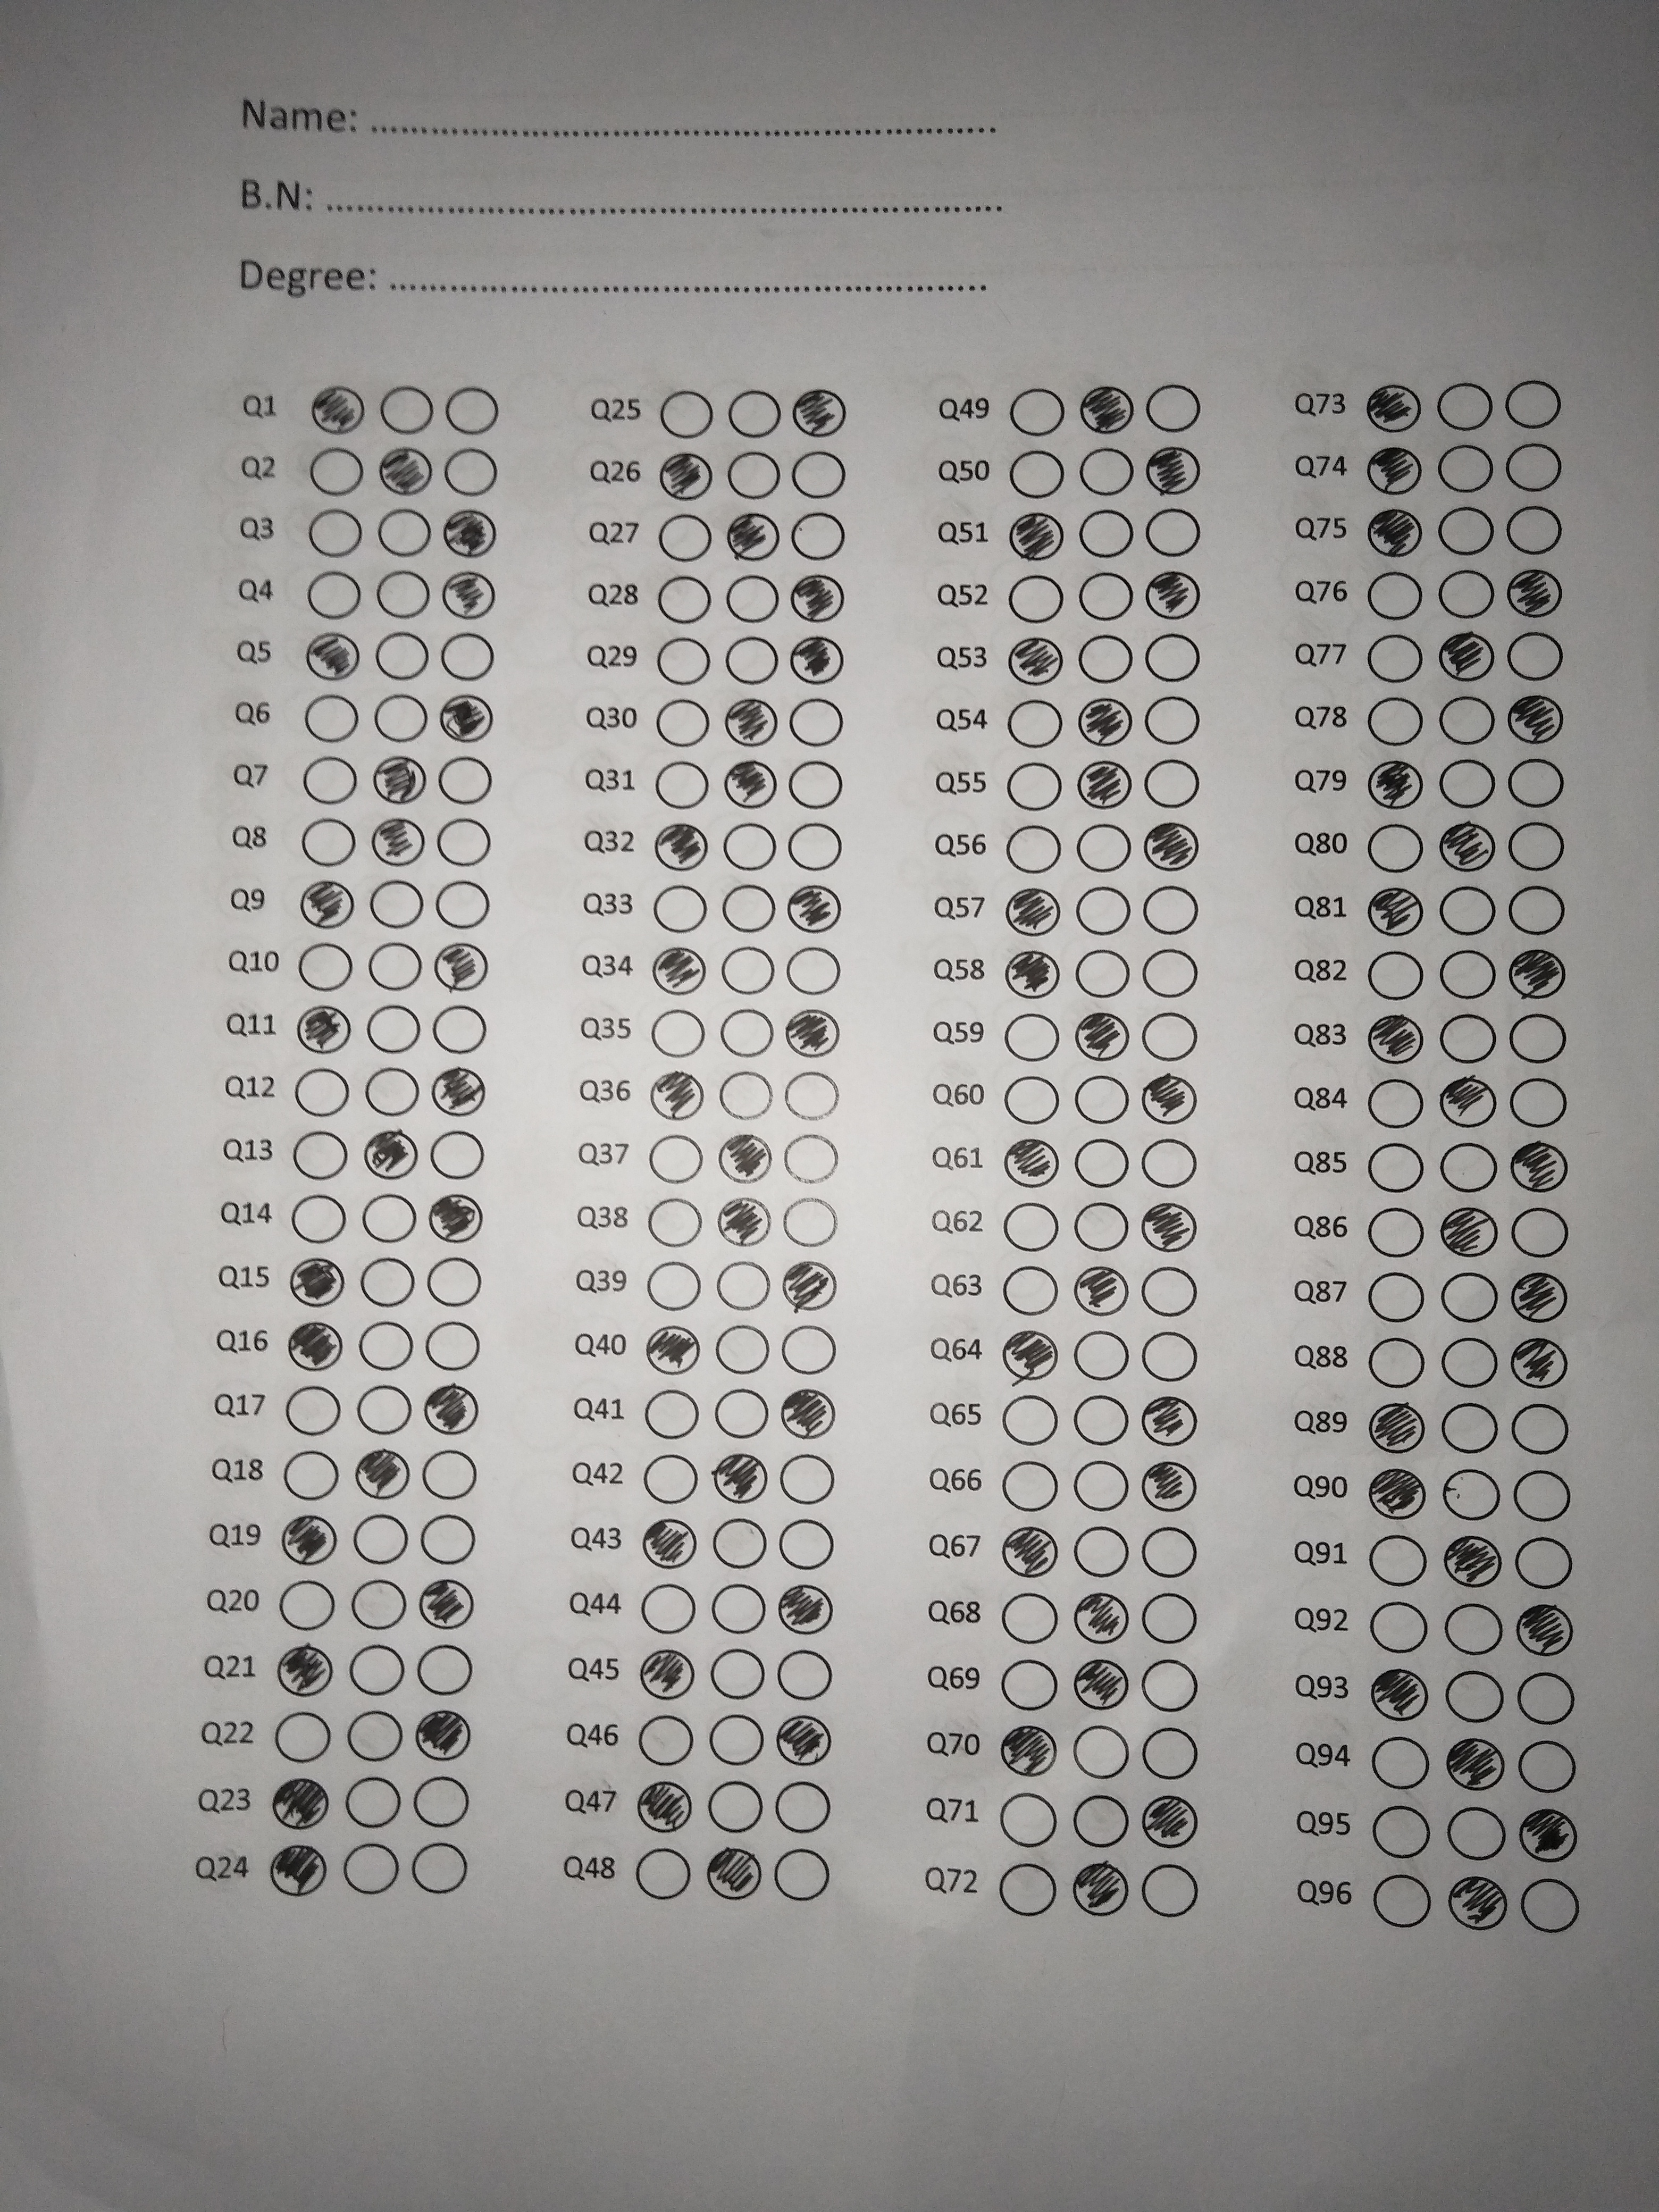not-c: (1363, 1730, 1432, 1792), (267, 1707, 335, 1766), (995, 1789, 1058, 1851), (1370, 1867, 1432, 1930), (1516, 1733, 1579, 1796), (408, 1838, 472, 1898), (1138, 1655, 1202, 1716), (1518, 1874, 1582, 1935), (995, 1588, 1061, 1648), (1364, 1801, 1431, 1860), (1441, 1667, 1507, 1726), (990, 1860, 1058, 1918), (1006, 376, 1066, 439), (1356, 951, 1429, 1003), (995, 1655, 1060, 1714), (1511, 1669, 1577, 1726), (1068, 1134, 1133, 1191), (1438, 1467, 1502, 1524), (772, 1517, 838, 1573), (1140, 1522, 1199, 1583), (1070, 1723, 1131, 1782), (439, 381, 502, 439), (408, 1773, 471, 1831), (1000, 1261, 1063, 1318), (1136, 1724, 1199, 1782), (1443, 1804, 1506, 1862), (1511, 1467, 1574, 1524), (1002, 446, 1066, 502), (627, 1846, 694, 1900), (1140, 631, 1206, 685), (418, 1444, 477, 1503), (706, 1710, 765, 1770), (343, 1709, 404, 1766), (779, 1451, 840, 1508), (709, 1581, 770, 1639), (1140, 1590, 1201, 1648), (638, 1385, 701, 1440), (1002, 568, 1065, 624), (1507, 1075, 1570, 1130), (1499, 378, 1563, 432), (1506, 1014, 1574, 1064), (343, 1839, 401, 1898), (720, 817, 779, 874), (772, 1846, 831, 1904), (788, 697, 849, 752), (1000, 1458, 1061, 1514), (1070, 1792, 1131, 1848), (774, 1782, 836, 1836), (1000, 1198, 1063, 1252), (1364, 1270, 1427, 1324), (429, 878, 493, 930), (354, 1258, 418, 1310), (1072, 570, 1136, 622), (352, 1512, 410, 1569), (714, 1318, 772, 1376), (713, 1385, 770, 1442), (1140, 1134, 1197, 1191), (355, 1318, 415, 1374), (655, 385, 714, 441), (725, 385, 784, 441), (786, 817, 845, 873), (709, 1517, 769, 1573), (1366, 1332, 1425, 1388), (291, 1064, 352, 1118), (716, 1005, 777, 1059), (779, 1195, 840, 1249), (645, 1259, 706, 1313), (638, 1581, 699, 1635), (1072, 1200, 1133, 1254), (1072, 1460, 1133, 1514), (1439, 1400, 1500, 1454), (1438, 1334, 1499, 1388), (1506, 820, 1567, 874), (1504, 505, 1565, 559), (716, 1069, 779, 1122), (1000, 1010, 1063, 1062), (1000, 1073, 1063, 1125), (1436, 693, 1499, 745), (1361, 632, 1424, 685), (1502, 631, 1565, 683), (282, 1379, 340, 1435), (354, 1381, 411, 1437), (342, 1773, 399, 1829), (725, 631, 782, 686), (708, 1646, 765, 1702), (636, 1714, 694, 1770), (1072, 1325, 1129, 1381), (1141, 1860, 1199, 1916), (1514, 1534, 1572, 1590), (653, 575, 713, 629), (1143, 505, 1202, 559), (1006, 697, 1065, 751), (1072, 1524, 1131, 1578), (1364, 820, 1424, 874), (279, 1447, 340, 1500), (345, 1644, 406, 1696), (1143, 381, 1204, 434), (1434, 381, 1495, 434), (1073, 948, 1134, 1000), (1138, 1012, 1199, 1064), (1441, 1602, 1502, 1655), (1366, 1534, 1427, 1587), (1507, 1404, 1568, 1456), (1364, 695, 1425, 747), (289, 1127, 352, 1177), (784, 761, 847, 812), (1363, 1078, 1425, 1129), (1436, 1014, 1499, 1064), (1506, 758, 1568, 808), (1366, 570, 1429, 620), (1504, 442, 1567, 493), (653, 695, 709, 751), (784, 1069, 840, 1125), (708, 1780, 763, 1836), (307, 446, 364, 500), (366, 878, 423, 932), (1077, 507, 1134, 561), (1140, 881, 1197, 935), (1441, 1270, 1499, 1324), (1368, 1207, 1425, 1261), (436, 815, 495, 867), (429, 1129, 488, 1181), (723, 449, 782, 502), (775, 1648, 835, 1700), (1138, 1266, 1197, 1318), (1000, 1395, 1060, 1447), (1370, 1601, 1429, 1653), (1436, 503, 1495, 556), (647, 883, 708, 934), (645, 1008, 706, 1059), (1004, 763, 1065, 813), (1140, 758, 1201, 808), (1438, 1144, 1499, 1195), (1436, 887, 1497, 937), (1506, 885, 1567, 935), (1070, 1076, 1133, 1125), (303, 754, 359, 808), (425, 1318, 481, 1372), (420, 1514, 474, 1569), (791, 509, 847, 563), (725, 571, 781, 625), (653, 758, 709, 812), (781, 1322, 836, 1376), (1075, 883, 1131, 937), (1141, 1329, 1197, 1383), (429, 1005, 486, 1057), (291, 1193, 349, 1245), (427, 1258, 484, 1310), (713, 1259, 770, 1312), (1077, 446, 1134, 498), (1075, 632, 1133, 685), (1143, 695, 1201, 747), (1073, 822, 1131, 874), (1511, 1205, 1568, 1258), (1436, 949, 1495, 1000), (1438, 759, 1497, 810), (441, 446, 497, 498), (416, 1642, 472, 1695), (647, 1195, 702, 1247), (303, 693, 361, 744), (436, 756, 493, 806), (362, 1066, 420, 1116), (277, 1580, 335, 1630), (781, 1132, 838, 1183), (1141, 949, 1199, 1000), (1366, 1143, 1424, 1193), (1438, 570, 1495, 620), (655, 514, 714, 563), (718, 944, 777, 993), (640, 1454, 699, 1503), (378, 383, 432, 435), (378, 507, 432, 559), (721, 883, 775, 935), (1073, 1393, 1127, 1446), (786, 944, 842, 995), (1004, 824, 1060, 874), (303, 571, 361, 620), (371, 695, 429, 744), (298, 817, 355, 866), (295, 942, 352, 991), (361, 1193, 418, 1242), (653, 637, 711, 686), (647, 1136, 704, 1184), (366, 1005, 420, 1055), (352, 1580, 406, 1630), (373, 632, 429, 681), (789, 451, 845, 500), (1436, 444, 1492, 493), (441, 632, 493, 683), (376, 568, 430, 617), (308, 509, 362, 556), (368, 942, 420, 989)
taken-c: (272, 1773, 333, 1836), (1072, 1858, 1134, 1919), (999, 1719, 1060, 1780), (706, 1839, 765, 1902), (1448, 1872, 1511, 1932), (265, 1841, 329, 1898), (1439, 1533, 1504, 1590), (1366, 1463, 1431, 1521), (1368, 1663, 1429, 1723), (349, 1444, 411, 1501), (1518, 1804, 1581, 1862), (1506, 1139, 1570, 1195), (1511, 1268, 1570, 1327), (1445, 1735, 1506, 1792), (1514, 1599, 1575, 1656), (1509, 1336, 1572, 1392), (413, 1705, 472, 1763), (634, 1777, 694, 1834), (775, 1710, 833, 1770), (777, 1581, 836, 1639), (1072, 1261, 1131, 1318), (368, 752, 429, 808), (293, 1001, 354, 1057), (1140, 1794, 1201, 1850), (1366, 1399, 1427, 1454), (1070, 1658, 1133, 1712), (1436, 1205, 1500, 1258), (423, 1381, 481, 1439), (416, 1576, 474, 1634), (1073, 1588, 1131, 1646), (296, 876, 355, 932), (286, 1318, 345, 1374), (275, 1642, 335, 1698), (641, 1514, 697, 1573), (650, 819, 709, 874), (1143, 441, 1202, 496), (1141, 1393, 1201, 1449), (1140, 1458, 1199, 1514), (1439, 819, 1499, 874), (1366, 503, 1425, 559), (1364, 885, 1425, 939), (303, 629, 361, 685), (281, 1512, 338, 1568), (640, 1646, 695, 1703), (1141, 819, 1199, 874), (1004, 885, 1061, 941), (1140, 1071, 1197, 1127), (1002, 1134, 1060, 1190), (1140, 1198, 1197, 1254), (1002, 1325, 1060, 1381), (1366, 756, 1424, 812), (368, 813, 427, 867), (288, 1256, 347, 1310), (1145, 568, 1204, 622), (1075, 758, 1134, 812), (999, 1524, 1058, 1578), (1439, 1076, 1499, 1130), (1507, 691, 1567, 745), (1004, 636, 1065, 688), (437, 570, 500, 620), (429, 1190, 484, 1245), (791, 570, 847, 625), (727, 507, 782, 563), (378, 442, 436, 496), (432, 941, 490, 995), (713, 1451, 770, 1505), (779, 1386, 836, 1440), (781, 1259, 838, 1313), (1075, 1008, 1133, 1062), (655, 449, 714, 502), (789, 388, 849, 441), (1438, 631, 1497, 683), (1506, 568, 1565, 620), (1364, 444, 1424, 496), (439, 509, 500, 559), (439, 691, 495, 745), (718, 1193, 772, 1249), (650, 942, 706, 996), (723, 756, 779, 810), (789, 632, 845, 686), (310, 383, 368, 435), (429, 1066, 486, 1118), (361, 1129, 418, 1181), (1077, 695, 1134, 747), (1509, 948, 1567, 1000), (1366, 381, 1424, 434), (1366, 1014, 1425, 1064), (645, 1324, 701, 1376), (786, 883, 842, 935), (723, 697, 779, 749), (1080, 383, 1136, 435), (1009, 509, 1065, 561), (718, 1134, 775, 1184), (650, 1069, 704, 1122), (1004, 949, 1060, 1000), (786, 1008, 840, 1059)
